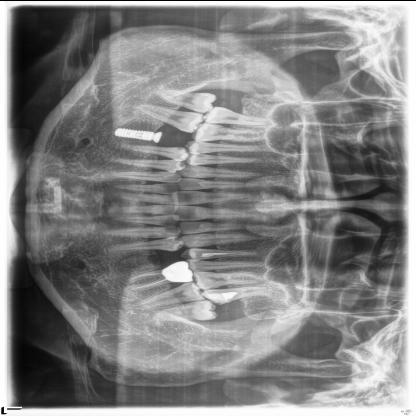ITI: (111, 124, 158, 141)
